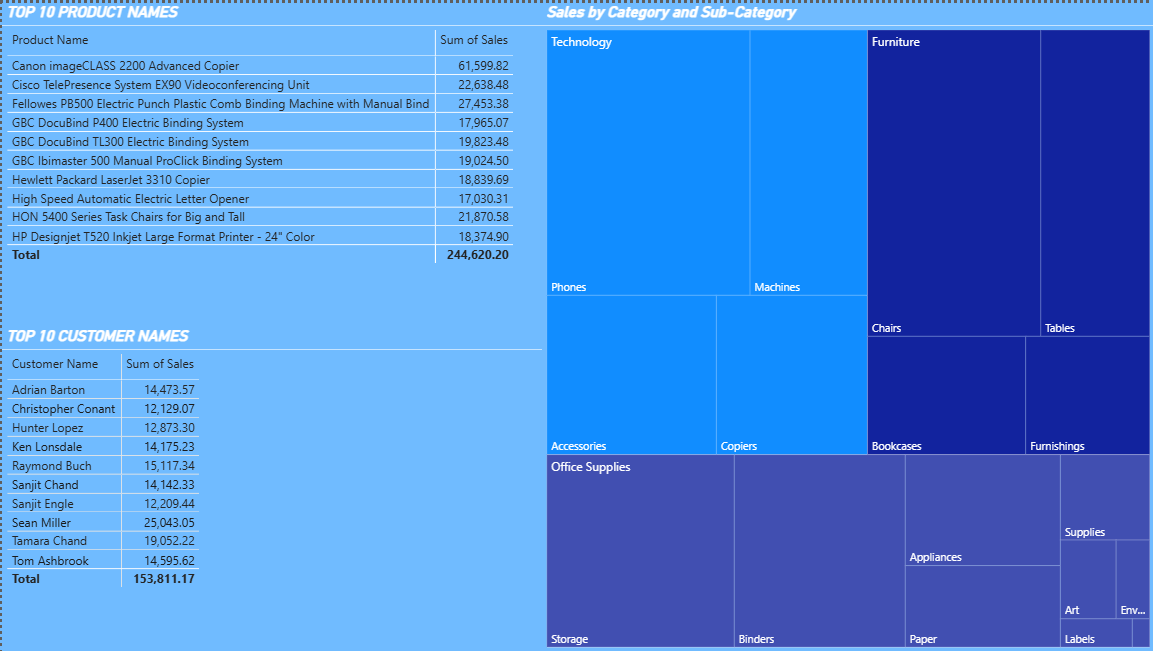

Layout of this report page (visuals, bound fields, positions):
{"tool":"powerbi","page":{"name":"Customer & Product Insights","canvas":[1280,720],"ordinal":2},"visuals":[{"type":"tableEx","title":"TOP 10 CUSTOMER NAMES","fields":{"Values":["top_customers.Customer Name","Sum(top_customers.Sales)"]},"box":[0,360,600,360],"z":0},{"type":"tableEx","title":"TOP 10 PRODUCT NAMES","fields":{"Values":["top_products.Product Name","Sum(top_products.Sales)"]},"box":[0,0,600,318],"z":1},{"type":"treemap","title":"Sales by Category and Sub-Category","fields":{"Group":["cleaned_sales_data.Category"],"Values":["Sum(cleaned_sales_data.Sales)"],"Details":["cleaned_sales_data.Sub-Category"]},"box":[600,0,680,720],"z":2}]}

Visuals, with their boxes in screenshot pixels (x1, y1, x2, y2), scaled from the page's 1280x720 canvas onto the 1153x651 screenshot:
"TOP 10 CUSTOMER NAMES" tableEx: bbox=(0, 326, 540, 650)
"TOP 10 PRODUCT NAMES" tableEx: bbox=(0, 0, 540, 288)
"Sales by Category and Sub-Category" treemap: bbox=(540, 0, 1152, 650)
